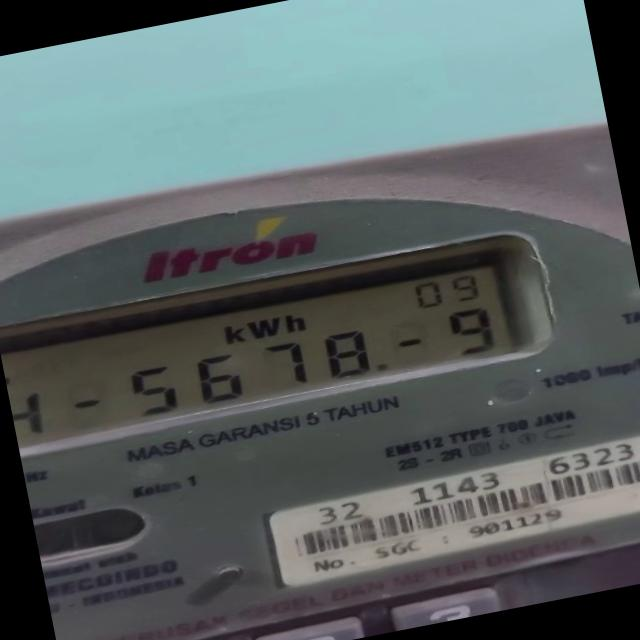LCD: (0, 221, 567, 464)
